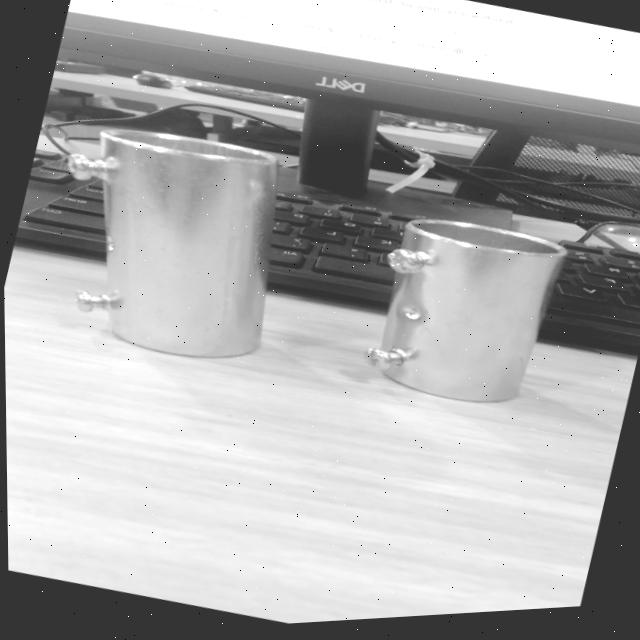Co_Lon: (49, 123, 280, 362)
Co_Nho: (359, 204, 566, 416)
